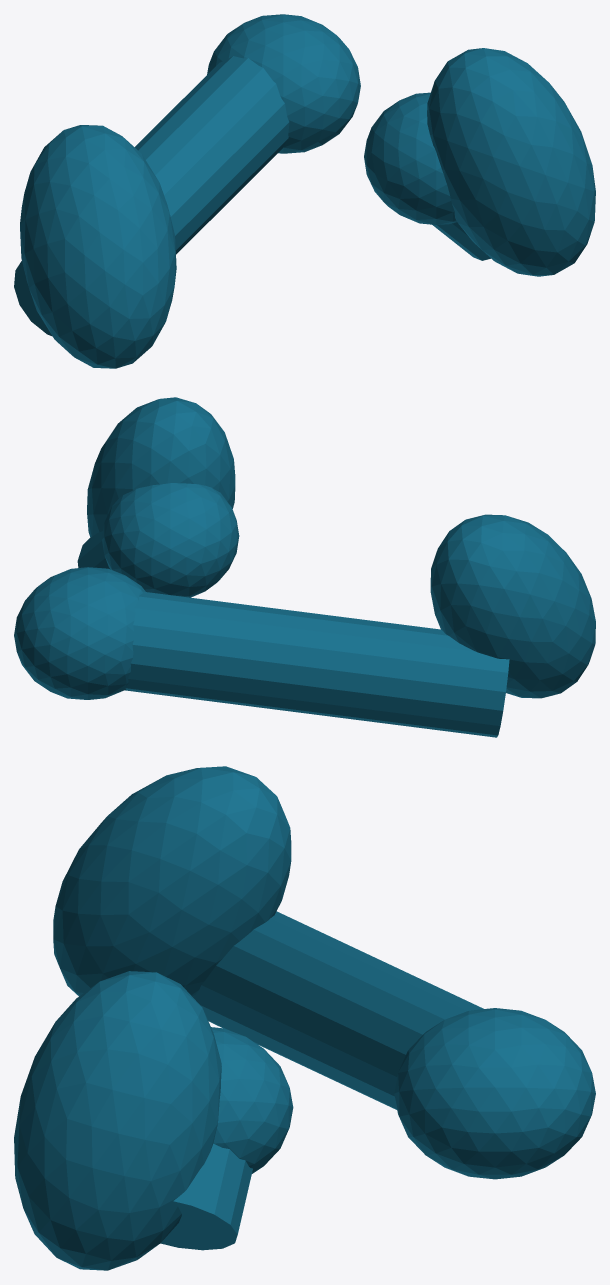
Rendered from Arms.glb.
3 renders of one model, top to bottom at view 1: azimuth 30°, elevation 25°; view 2: azimuth 150°, elevation 25°; view 3: azimuth 270°, elevation 25°, orthographic. The views are drawn at different scales.
Visible parts, largest first — view 1: geometry_0; view 2: geometry_0; view 3: geometry_0.
Part boxes in pixels (<box>): geometry_0: <box>14,14,595,368</box>; geometry_0: <box>14,397,595,737</box>; geometry_0: <box>14,766,595,1270</box>.
Size of the model in its own units: 1.12 by 0.4545 by 0.8654.
